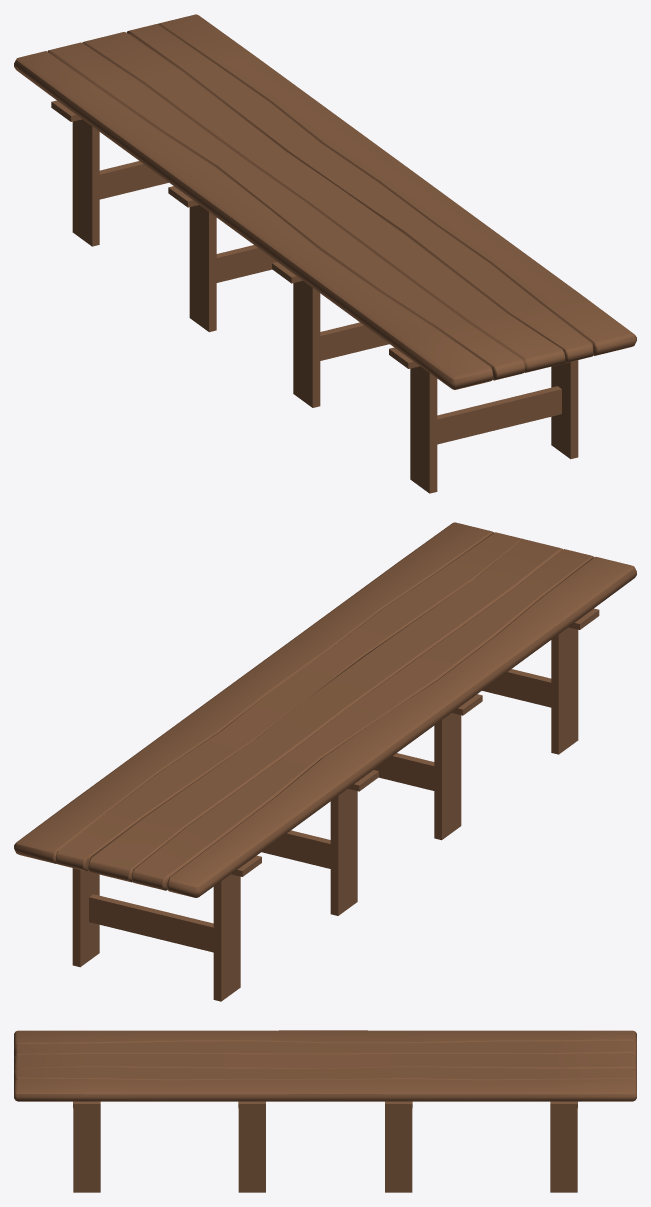
The model's file is 093_wooden_table_var2.glb.
3 views of the same model, one above another, from view 1: azimuth 30°, elevation 25°; view 2: azimuth 150°, elevation 25°; view 3: azimuth 270°, elevation 25° (orthographic). The views are drawn at different scales.
Visible parts, largest first — view 1: table, legs, support_bottom, support_top; view 2: table, legs, support_bottom, support_top; view 3: table, legs, support_top.
Part boxes in pixels (x1,y1,x2,y2): table: [14, 14, 636, 389]; legs: [72, 119, 578, 493]; support_bottom: [99, 161, 561, 444]; support_top: [51, 100, 419, 368]; table: [14, 522, 636, 897]; legs: [72, 627, 578, 1001]; support_bottom: [89, 669, 551, 952]; support_top: [231, 608, 599, 876]; table: [14, 1030, 636, 1101]; legs: [73, 1108, 577, 1192]; support_top: [73, 1101, 577, 1108].
Bounding box in the file's own units: 1.5 × 1.13 × 5.99.
